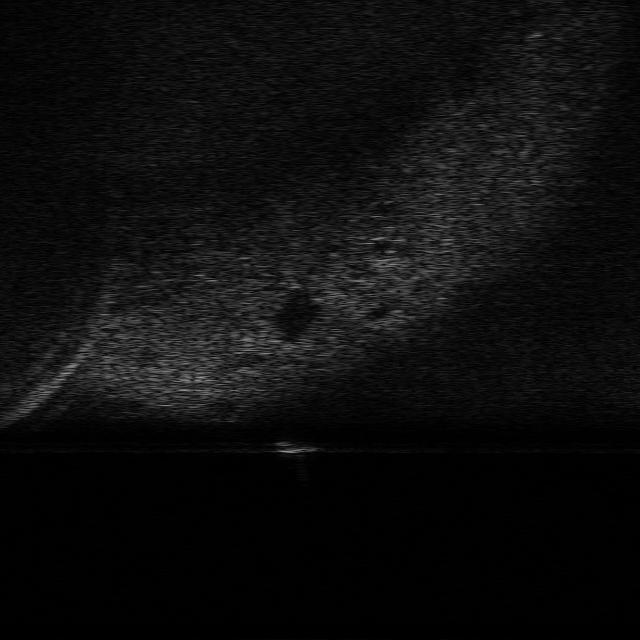cube: (264, 439, 318, 458)
